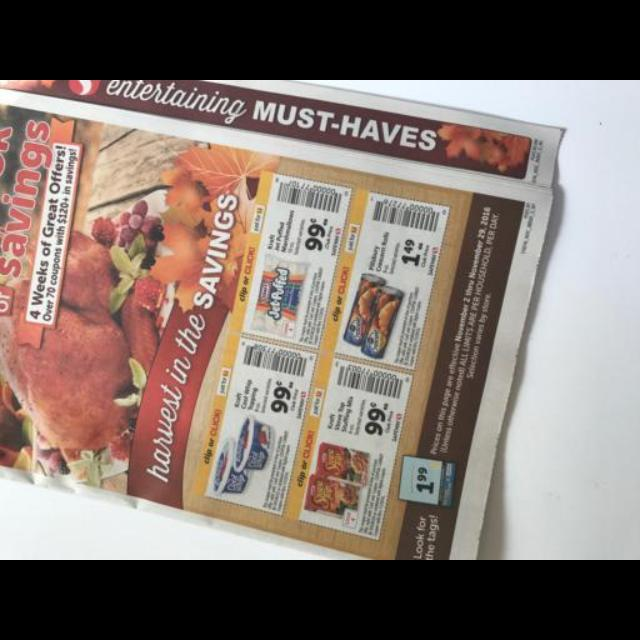papel: (1, 80, 566, 560)
